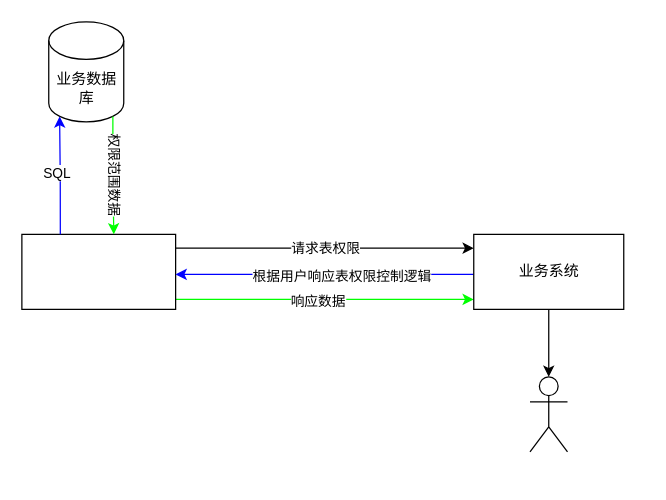
The diagram is 666 pixels wide and 500 high, and some of its shapes have lost their labels. Each missing label, with the centre of its shape:
"DB-GPT" goes at point (98, 271).
"供应链一站式问答" goes at point (548, 414).
